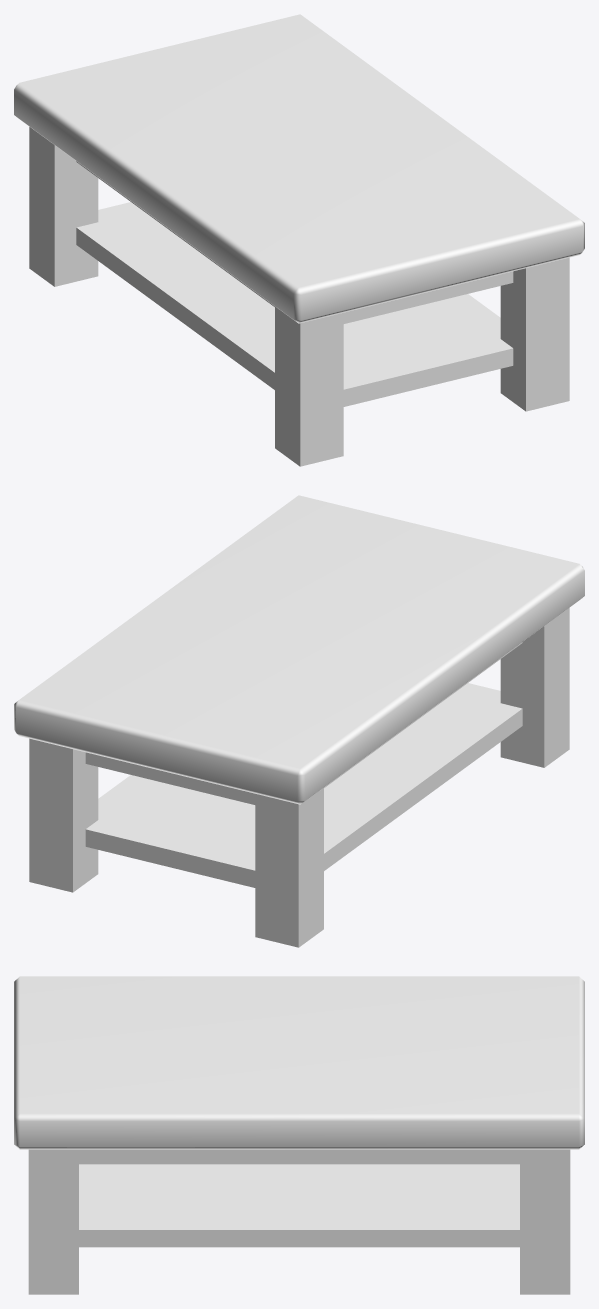
File: coffee_table_010.fbx
3 views of the same model, one above another, from view 1: azimuth 30°, elevation 25°; view 2: azimuth 150°, elevation 25°; view 3: azimuth 270°, elevation 25° (orthographic).
Parts seen in each view (by area): view 1: coffee_table_010; view 2: coffee_table_010; view 3: coffee_table_010.
Boxes of the visible parts, <box> form: coffee_table_010: <box>14,14,584,466</box>; coffee_table_010: <box>14,495,584,947</box>; coffee_table_010: <box>14,976,584,1294</box>.
Bounding box in the file's own units: 89.98 × 153 × 54.26.
